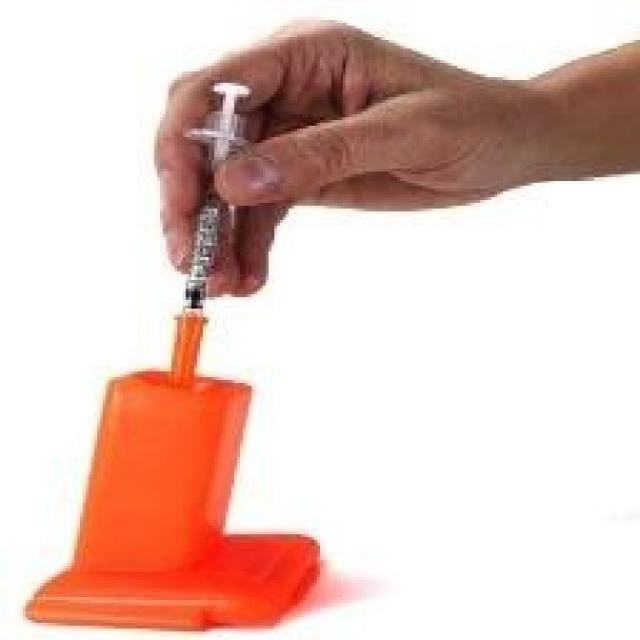syringe: (174, 85, 280, 313)
